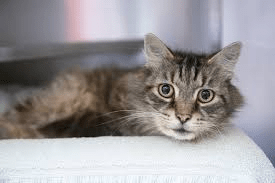cat: (87, 40, 249, 147)
